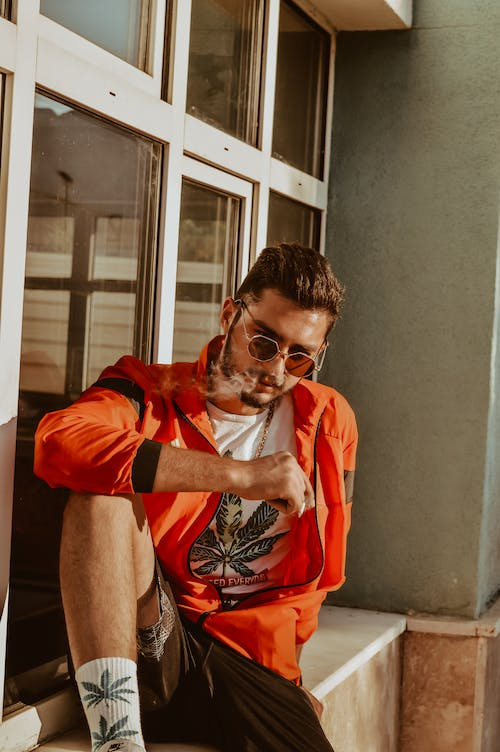cigarette: (294, 498, 310, 520)
